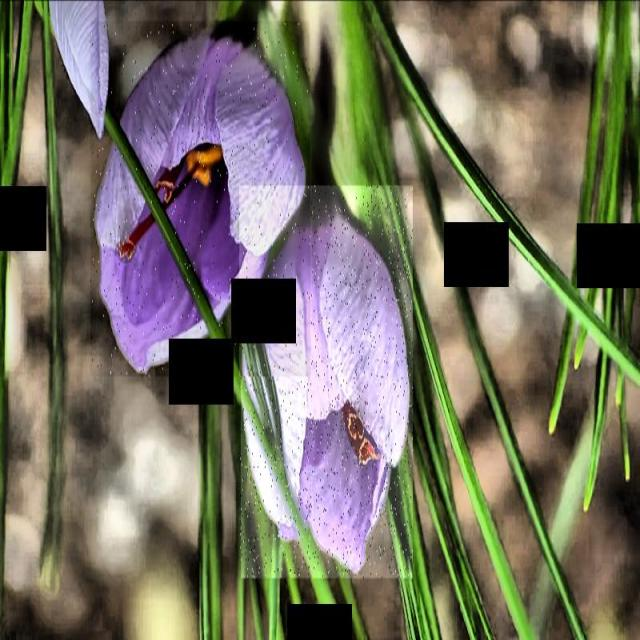Flower: (65, 26, 284, 381), (240, 184, 412, 577)
stigma: (110, 144, 239, 263)
